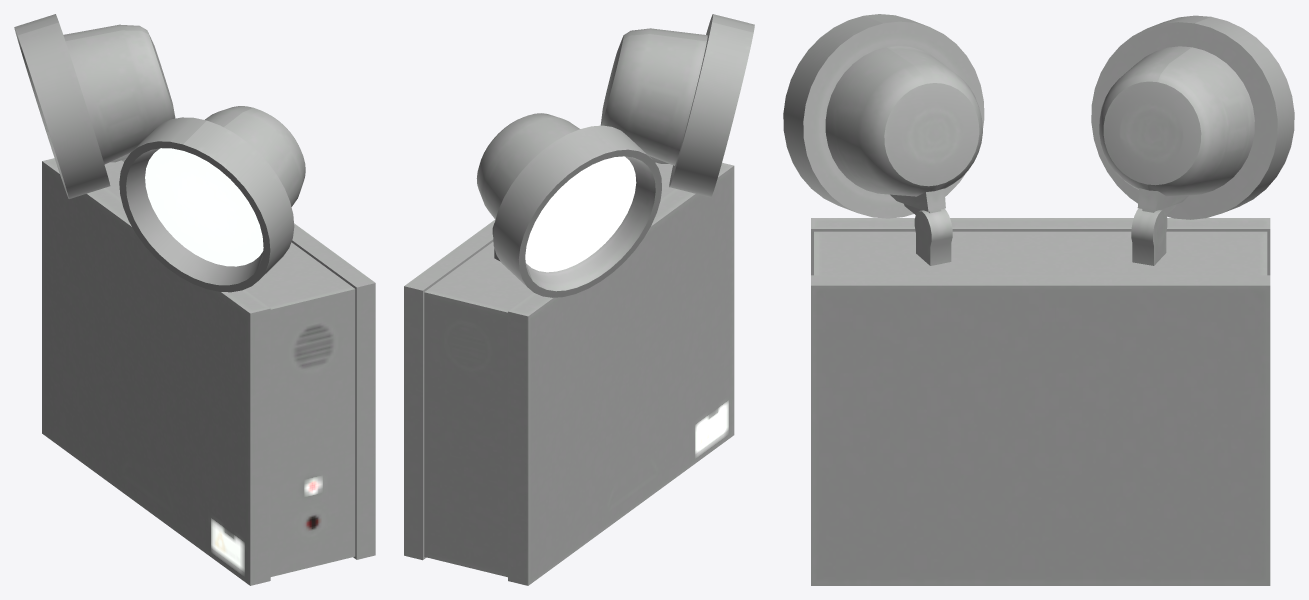
Rendered from emergencylight_reference.001.fbx.
3 renders of one model, left to right at view 1: azimuth 30°, elevation 25°; view 2: azimuth 150°, elevation 25°; view 3: azimuth 270°, elevation 25°, orthographic. The views are drawn at different scales.
Visible parts, largest first — view 1: emergencylight_reference.001; view 2: emergencylight_reference.001; view 3: emergencylight_reference.001.
Part boxes in pixels (<box>): emergencylight_reference.001: <box>14,14,375,585</box>; emergencylight_reference.001: <box>404,14,754,585</box>; emergencylight_reference.001: <box>783,14,1294,585</box>.
Bounding box in the file's own units: 23.41 × 51.76 × 49.
